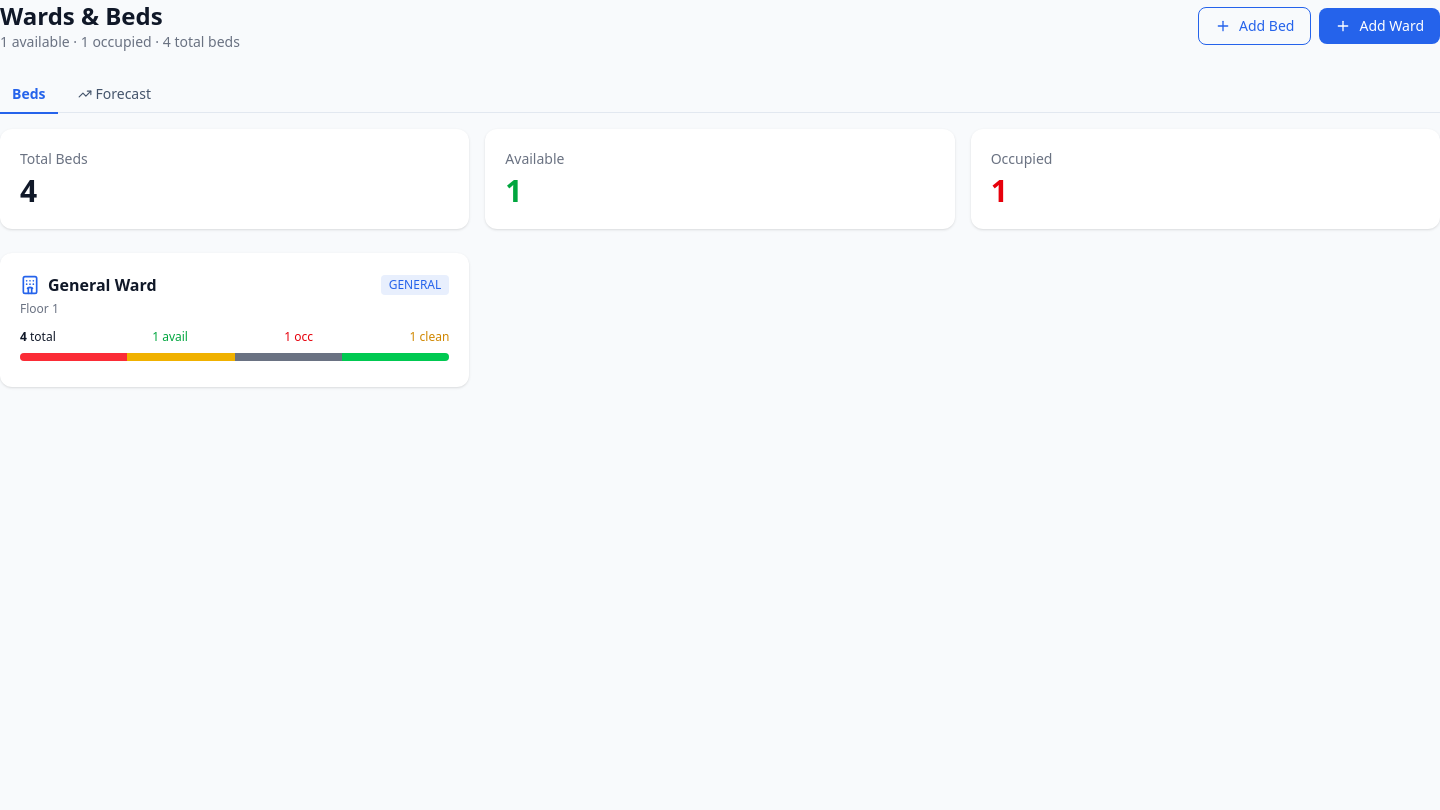
Test case: WardsPage (Wards & Beds admin — full surface) › happy Add Ward — POSTs the form body, closes the modal, refetches, success toast
The image size is (1440, 810).
Click the button with test id "add-ward-cta": (1380, 26) [1320,8,1439,44]
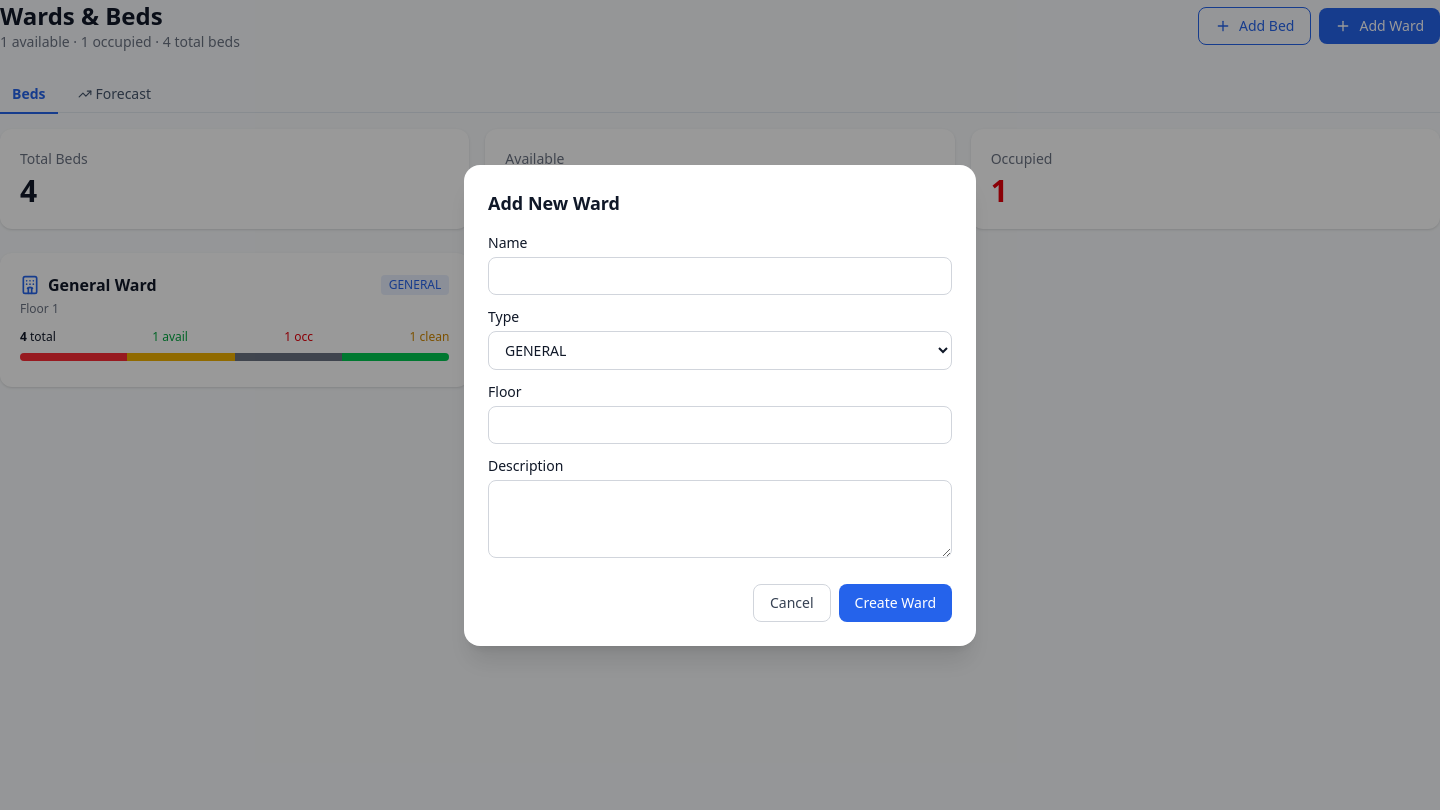
Expected: the heading "Add New Ward" is shown, [488,190,620,214]
In the field labelled "Name": (720, 276) [488,256,952,294], type "ICU-North"
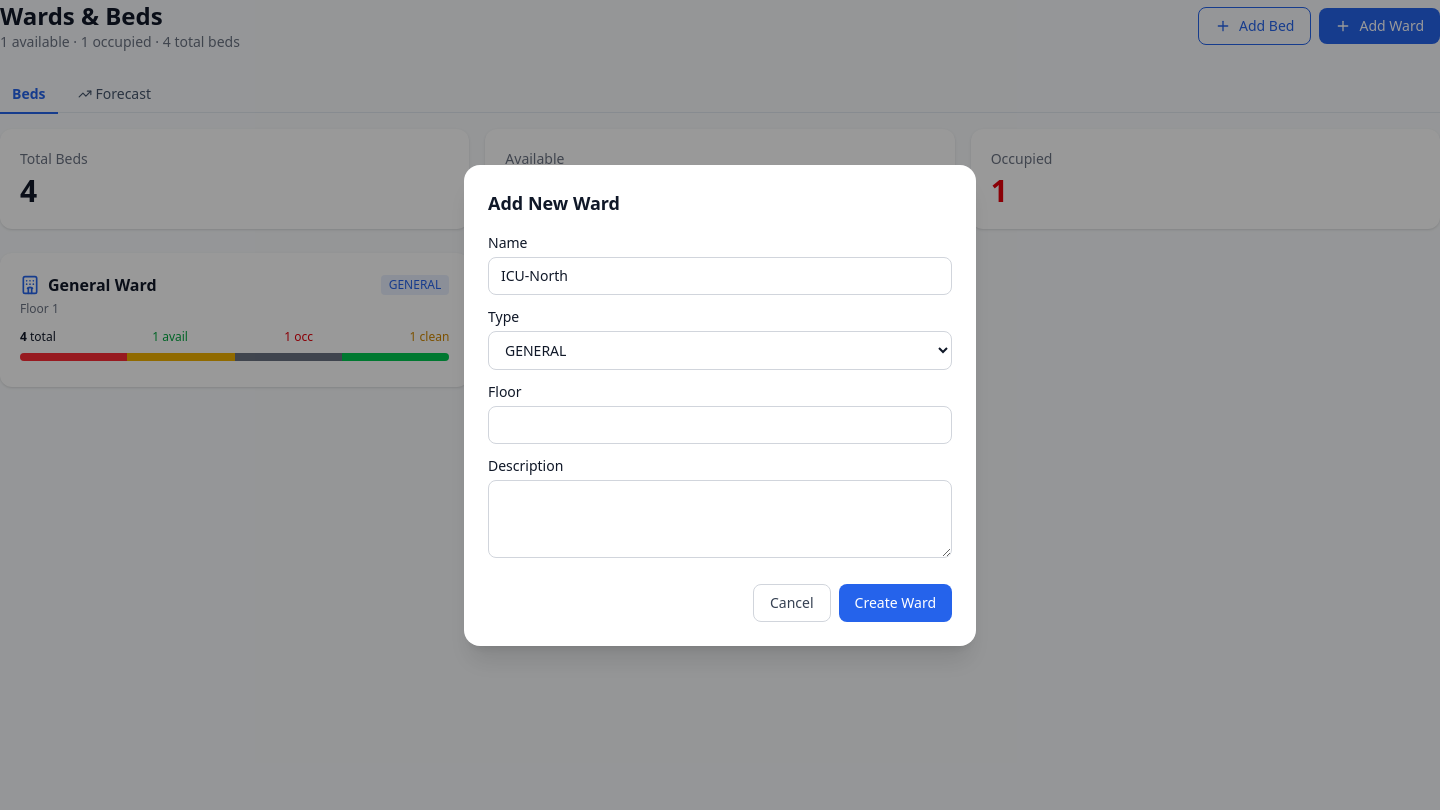
Select "ICU" in the dropdown labelled "Type": (720, 350) [488,330,952,370]
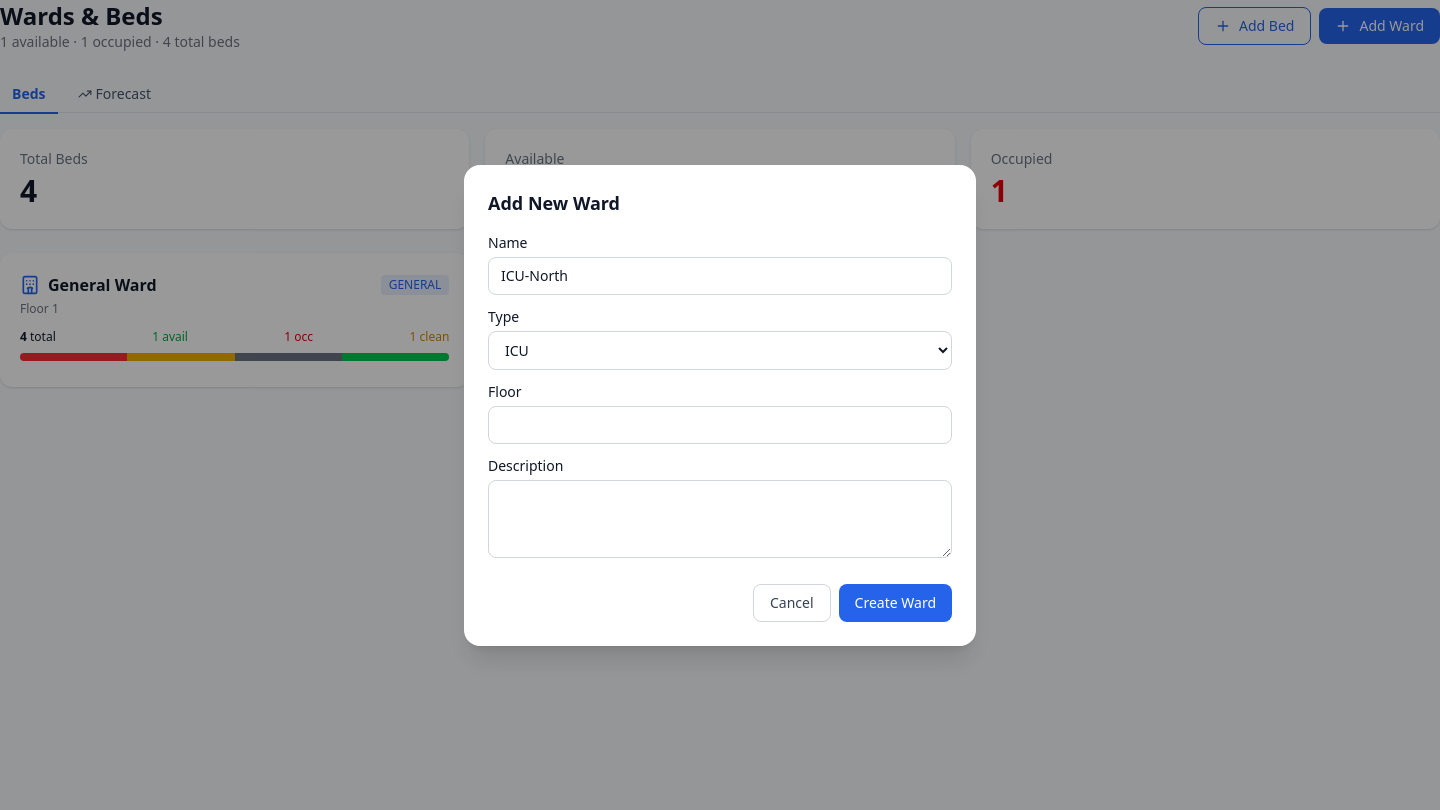
In the field labelled "Floor": (720, 424) [488,406,952,444], type "3"
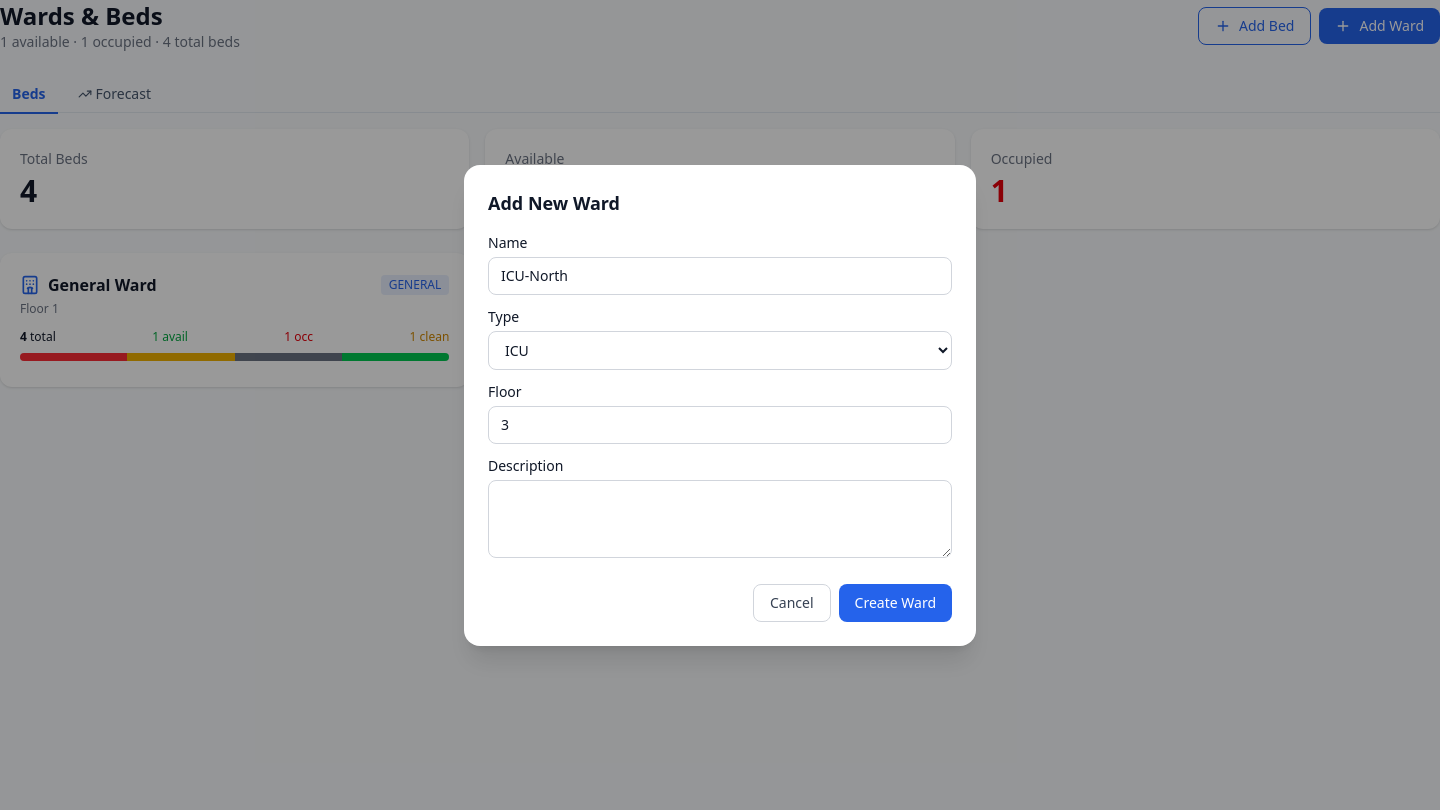
In the text box labelled "Description": (720, 518) [488,480,952,558], type "ICU on third floor"
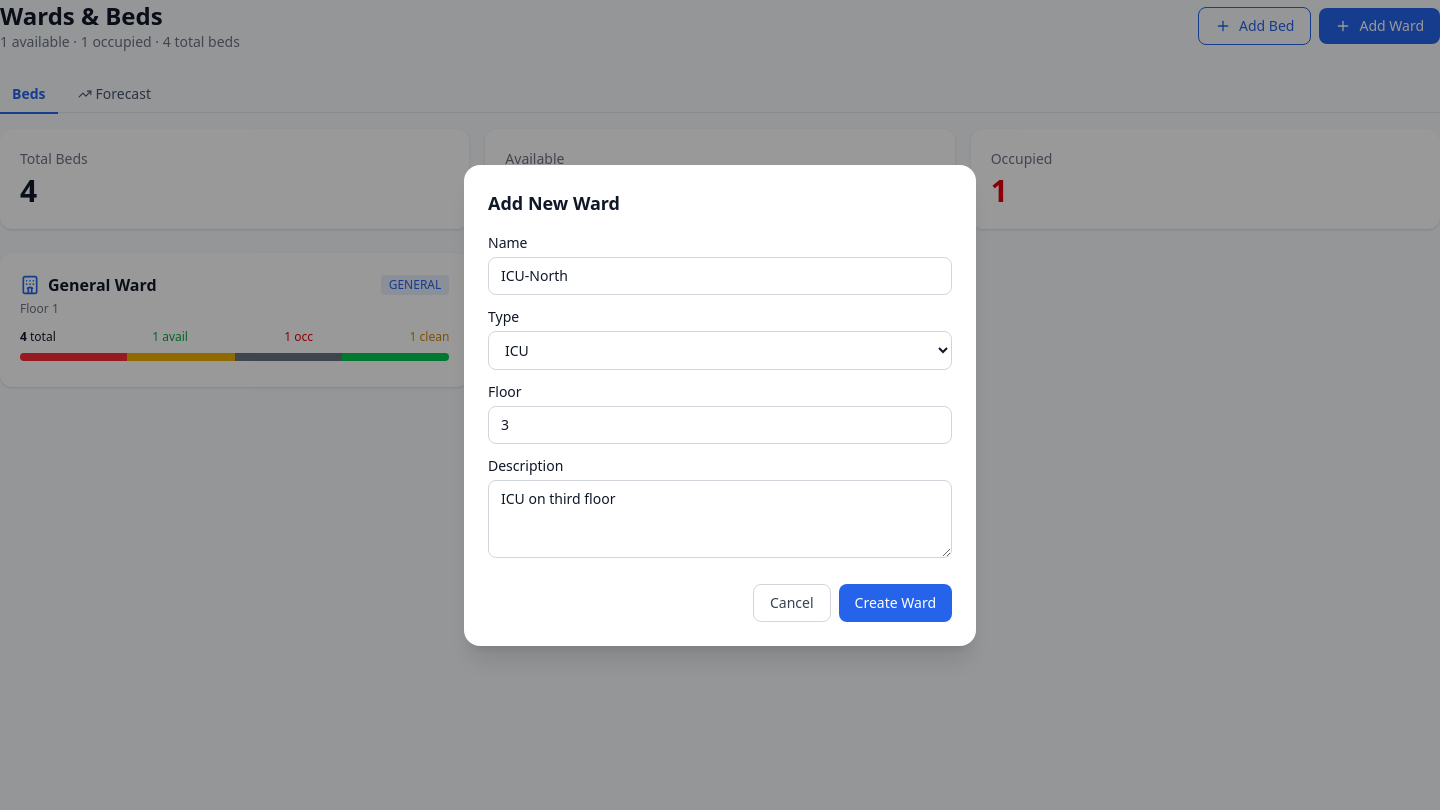
Submit the form, box [464,164,976,646]
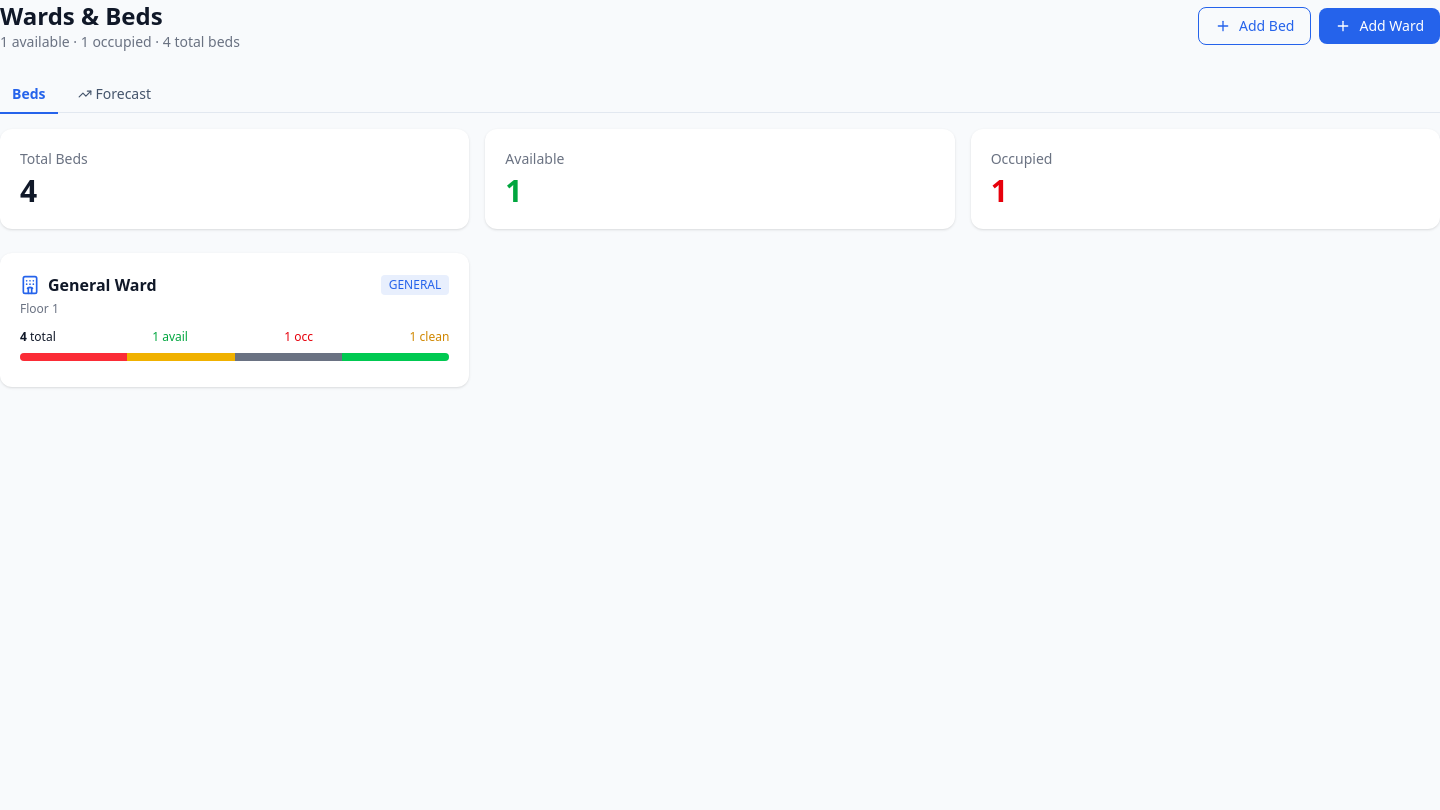
Expected: the heading "Add New Ward" is gone
